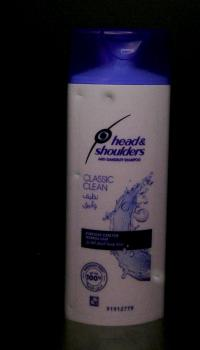dent_unacceptable: (150, 268, 166, 286), (100, 90, 118, 105), (72, 89, 88, 104), (73, 168, 84, 182)
